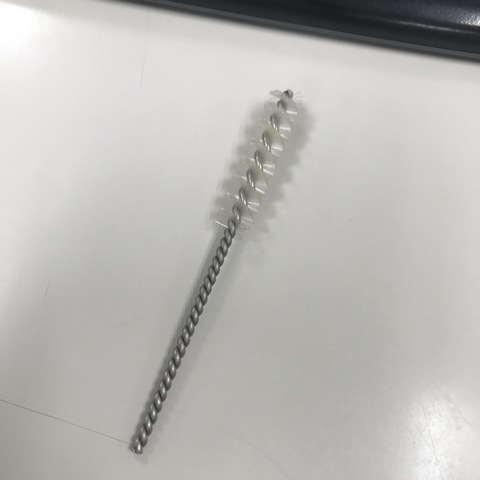Twist Brush-B: (121, 91, 306, 455)
